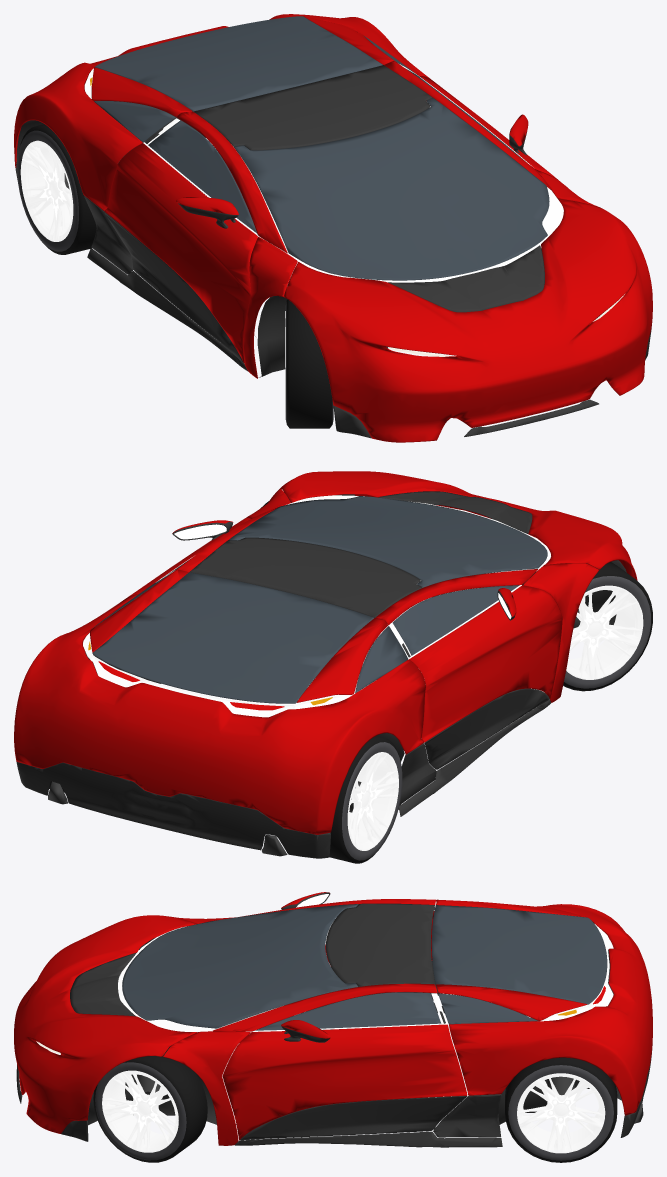
Rendered from supercar.glb.
3 renders of one model, top to bottom at view 1: azimuth 30°, elevation 25°; view 2: azimuth 150°, elevation 25°; view 3: azimuth 270°, elevation 25°, orthographic. The views are drawn at different scales.
Parts seen in each view (by area): view 1: BodyHood, BodyWindshield, BodyRearwindow, BodyDoorRColor1, BodyRearPanelsColor1, BodyRoofPanel, BodyPillars, BodyPanelsColor2, BodyHoodTopgrill, WheelFrontR, BodyDoorRWindow, WheelRearRRim (+7 smaller); view 2: BodyRearPanelsColor1, BodyRearwindow, BodyWindshield, BodyPanelsColor2, BodyDoorRColor1, BodyRoofPanel, BodyHood, BodyPillars, WheelFrontRRim, BodyDoorRColor2, WheelRearRRim, BodyDoorRWindow (+7 smaller); view 3: BodyWindshield, BodyRearPanelsColor1, BodyDoorLColor1, BodyHood, BodyRearwindow, BodyRoofPanel, BodyPillars, BodyDoorLColor2, BodyPanelsColor2, WheelFrontL, WheelRearLRim, WheelFrontLRim (+9 smaller).
Part boxes in pixels (x1=…): BodyHood: x1=283, y1=198, x2=652, y2=442; BodyWindshield: x1=234, y1=98, x2=549, y2=280; BodyRearwindow: x1=94, y1=16, x2=382, y2=111; BodyDoorRColor1: x1=104, y1=143, x2=257, y2=363; BodyRearPanelsColor1: x1=14, y1=14, x2=428, y2=210; BodyRoofPanel: x1=193, y1=65, x2=432, y2=150; BodyPillars: x1=176, y1=61, x2=598, y2=378; BodyPanelsColor2: x1=15, y1=110, x2=651, y2=438; BodyHoodTopgrill: x1=388, y1=245, x2=544, y2=312; WheelFrontR: x1=285, y1=299, x2=333, y2=428; BodyDoorRWindow: x1=148, y1=120, x2=257, y2=234; WheelRearRRim: x1=20, y1=140, x2=73, y2=241; BodyRearPanelsColor1: x1=14, y1=569, x2=425, y2=834; BodyRearwindow: x1=92, y1=572, x2=373, y2=703; BodyWindshield: x1=229, y1=496, x2=547, y2=587; BodyPanelsColor2: x1=16, y1=681, x2=550, y2=858; BodyDoorRColor1: x1=409, y1=585, x2=562, y2=742; BodyRoofPanel: x1=189, y1=537, x2=422, y2=617; BodyHood: x1=279, y1=471, x2=637, y2=580; BodyPillars: x1=175, y1=489, x2=599, y2=702; WheelFrontRRim: x1=566, y1=585, x2=643, y2=679; BodyDoorRColor2: x1=424, y1=688, x2=549, y2=769; WheelRearRRim: x1=347, y1=752, x2=398, y2=850; BodyDoorRWindow: x1=392, y1=585, x2=519, y2=655; BodyWindshield: x1=122, y1=904, x2=358, y2=1028; BodyRearPanelsColor1: x1=436, y1=899, x2=652, y2=1115; BodyDoorLColor1: x1=222, y1=1024, x2=467, y2=1140; BodyHood: x1=14, y1=915, x2=196, y2=1133; BodyRearwindow: x1=431, y1=905, x2=607, y2=1004; BodyRoofPanel: x1=326, y1=903, x2=434, y2=986; BodyPillars: x1=163, y1=899, x2=437, y2=1145; BodyDoorLColor2: x1=240, y1=1096, x2=467, y2=1140; BodyPanelsColor2: x1=16, y1=1000, x2=652, y2=1147; WheelFrontL: x1=93, y1=1050, x2=207, y2=1162; WheelRearLRim: x1=517, y1=1073, x2=605, y2=1153; WheelFrontLRim: x1=102, y1=1070, x2=178, y2=1152.
Size of the model in its own units: 2.54 by 1.15 by 4.36.
